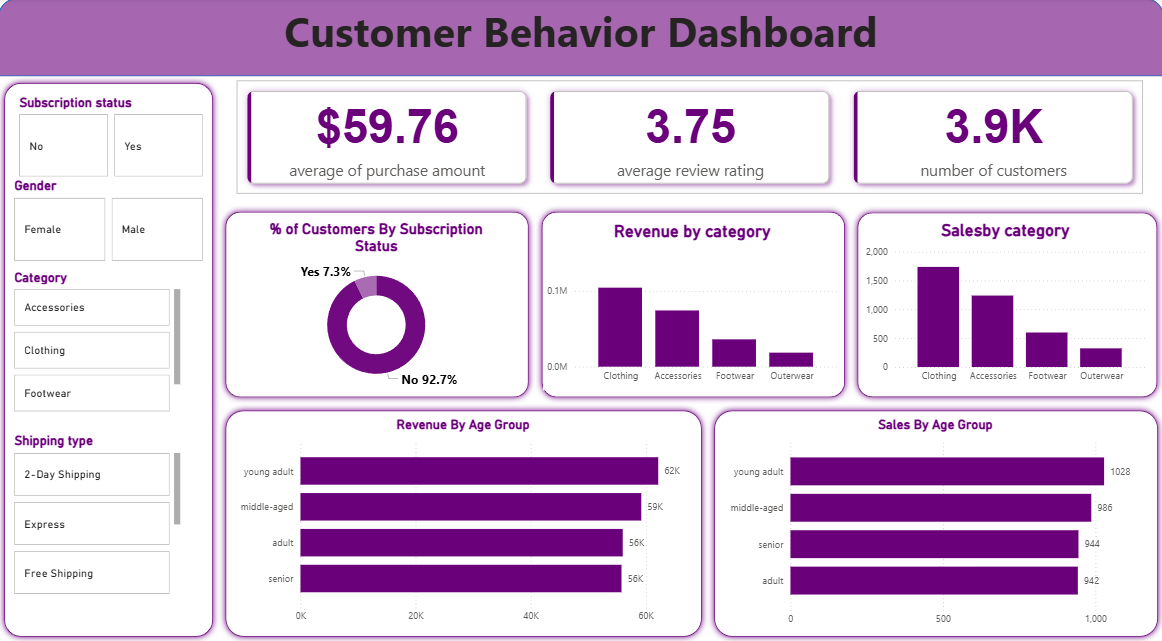

What the dashboard file says about the page in this screenshot:
{"tool":"powerbi","page":{"name":"Page 1","canvas":[1500,830],"ordinal":0},"visuals":[{"type":"cardVisual","fields":{"Data":["public customer.average of purchase amount","public customer.average review rating","public customer.number of customers"]},"box":[302.3,101.3,1177.1,156],"z":0},{"type":"shape","box":[0,0,1500.3,100.8],"z":1},{"type":"textbox","box":[0,0,1500.3,85.8],"z":2},{"type":"shape","box":[284.8,267.1,406.1,254.8],"z":3},{"type":"donutChart","title":"% of Customers By Subscription Status","fields":{"Y":["Sum(public customer.customer_id)"],"Category":["public customer.subscription_status"]},"box":[305.2,286.2,362.5,220.7],"z":6},{"type":"shape","box":[1096.7,266.9,403.6,255.7],"z":8},{"type":"shape","box":[690.9,267.1,406.1,254.8],"z":11},{"type":"clusteredColumnChart","title":"Revenue by category","fields":{"Y":["Sum(public customer.purchase_amount)"],"Category":["public customer.category"]},"box":[701.8,287.5,384.3,216.7],"z":12},{"type":"clusteredColumnChart","title":"Salesby category","fields":{"Y":["CountNonNull(public customer.customer_id)"],"Category":["public customer.category"]},"box":[1111.2,286.2,369.9,218.7],"z":13},{"type":"shape","box":[284.6,522.6,628.8,307.1],"z":14},{"type":"shape","box":[0,101.3,284.6,728.5],"z":15},{"type":"advancedSlicerVisual","title":"Subscription status","fields":{"Values":["public customer.subscription_status"]},"box":[22.5,123.8,246,111],"z":16},{"type":"advancedSlicerVisual","title":"Gender","fields":{"Values":["public customer.gender"]},"box":[16.1,231.6,252.5,112.6],"z":17},{"type":"advancedSlicerVisual","title":"Category","fields":{"Values":["public customer.category"]},"box":[16.1,349,223.5,189.8],"z":18},{"type":"advancedSlicerVisual","title":"Shipping type","fields":{"Values":["public customer.shipping_type"]},"box":[16.1,559.6,223.5,213.9],"z":19},{"type":"clusteredBarChart","title":"Revenue By Age Group","fields":{"Category":["public customer.age_group"],"Y":["Sum(public customer.purchase_amount)"]},"box":[302.3,538.7,591.8,275],"z":20},{"type":"shape","box":[913.4,522.6,586.9,307.1],"z":21},{"type":"clusteredBarChart","title":"Sales By Age Group","fields":{"Category":["public customer.age_group"],"Y":["CountNonNull(public customer.customer_id)"]},"box":[932.7,538.7,546.7,278.2],"z":22}]}

Visuals, with their boxes in screenshot pixels (x1, y1, x2, y2), scaled from the page's 1500x830 canvas onto the 1162x641 screenshot:
cardVisual - public customer.average of purchase amount x public customer.average review rating: BBox(234, 78, 1146, 199)
shape: BBox(0, 0, 1161, 78)
textbox: BBox(0, 0, 1161, 66)
shape: BBox(221, 206, 535, 403)
"% of Customers By Subscription Status" donutChart: BBox(236, 221, 517, 391)
shape: BBox(850, 206, 1161, 404)
shape: BBox(535, 206, 850, 403)
"Revenue by category" clusteredColumnChart: BBox(544, 222, 841, 389)
"Salesby category" clusteredColumnChart: BBox(861, 221, 1147, 390)
shape: BBox(220, 404, 708, 640)
shape: BBox(0, 78, 220, 640)
"Subscription status" advancedSlicerVisual: BBox(17, 96, 208, 181)
"Gender" advancedSlicerVisual: BBox(12, 179, 208, 266)
"Category" advancedSlicerVisual: BBox(12, 270, 186, 416)
"Shipping type" advancedSlicerVisual: BBox(12, 432, 186, 597)
"Revenue By Age Group" clusteredBarChart: BBox(234, 416, 693, 628)
shape: BBox(708, 404, 1161, 640)
"Sales By Age Group" clusteredBarChart: BBox(723, 416, 1146, 631)
